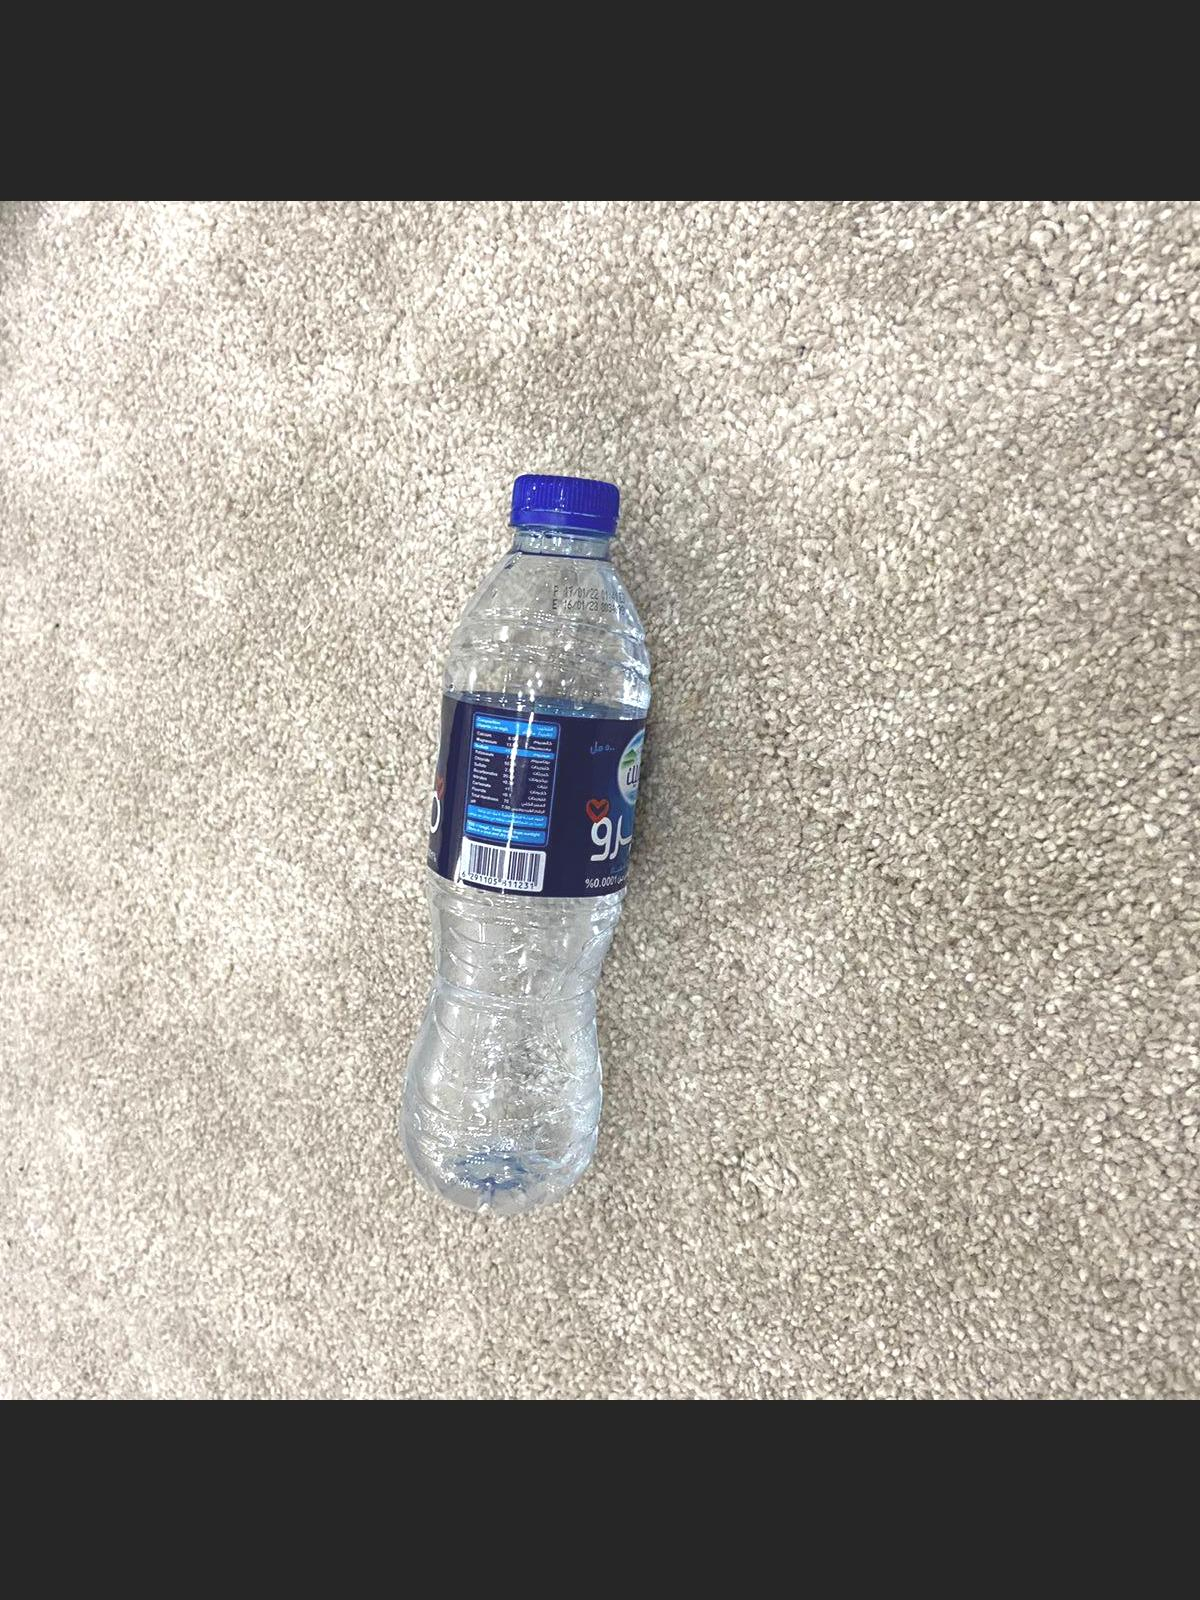bottle: (395, 459, 676, 1207)
